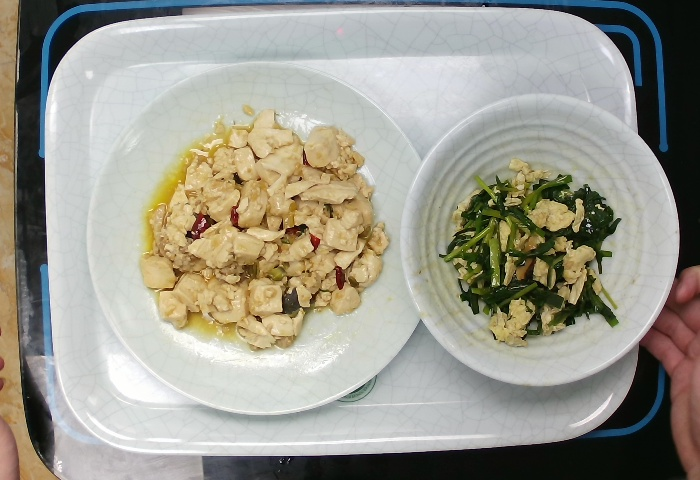JYsf-Da_Yuan_Pan: (85, 55, 423, 412)
JYsf-Xiao_Tang_Wan: (399, 90, 681, 385)
